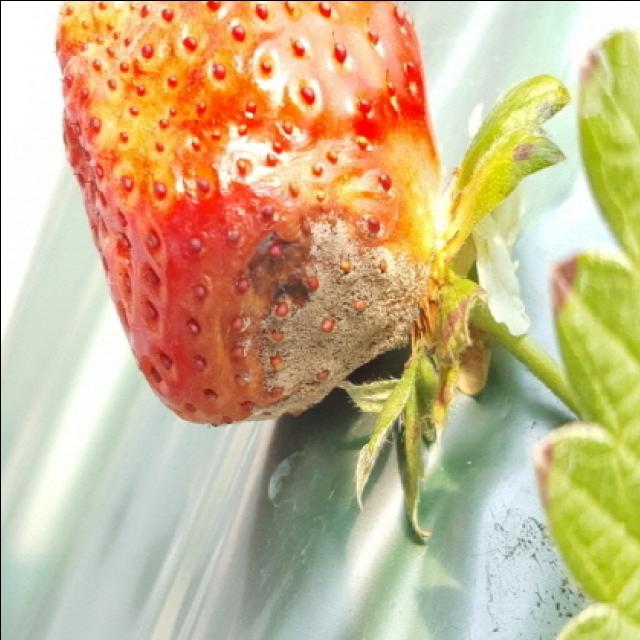Gray Mold: (203, 199, 448, 423)
